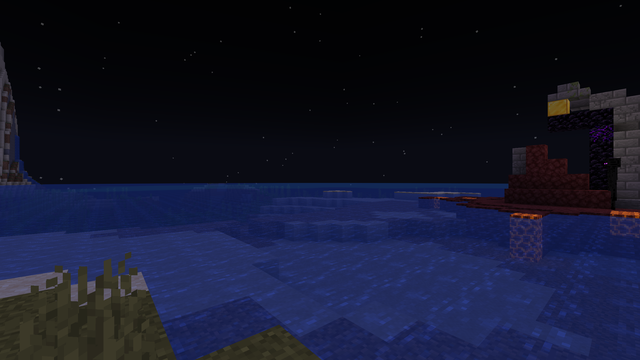endermens: (603, 156, 619, 210)
